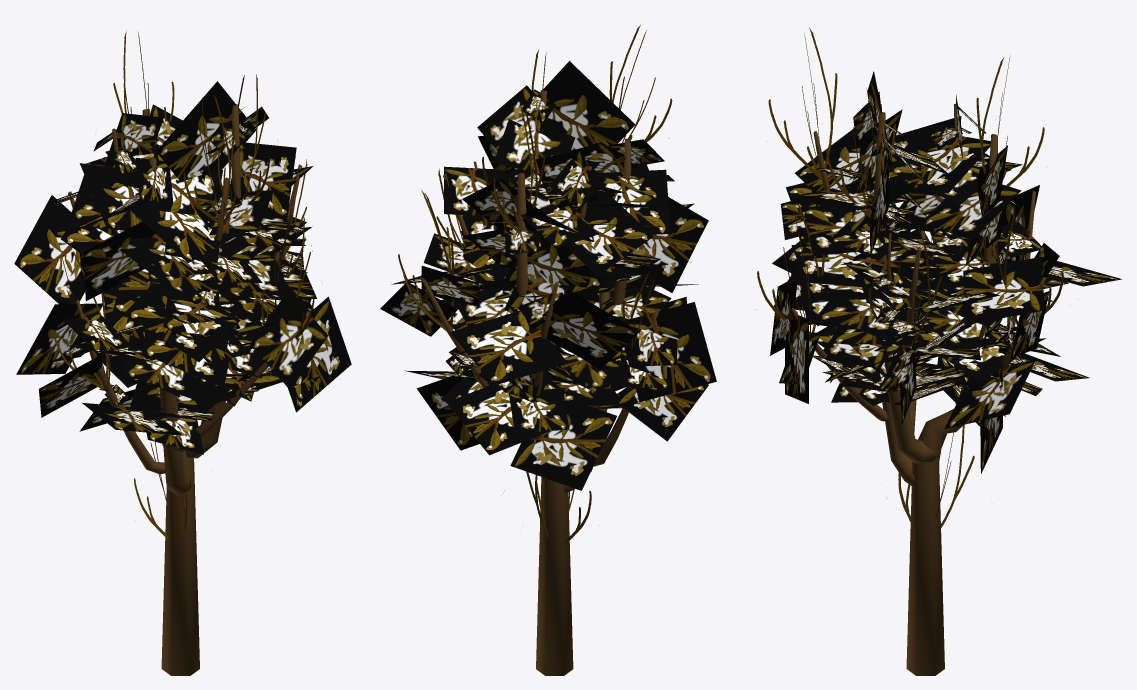
3 views of the same model, side by side, from view 1: azimuth 30°, elevation 25°; view 2: azimuth 150°, elevation 25°; view 3: azimuth 270°, elevation 25° (orthographic). The views are drawn at different scales.
Parts seen in each view (by area): view 1: Tree4; view 2: Tree4; view 3: Tree4.
Boxes of the visible parts, x1=… form: Tree4: x1=14, y1=30, x2=351, y2=675; Tree4: x1=380, y1=25, x2=716, y2=675; Tree4: x1=757, y1=27, x2=1121, y2=675.
Bounding box in the file's own units: 4.83 × 9.89 × 5.32.
3 materials, 2 textured.
